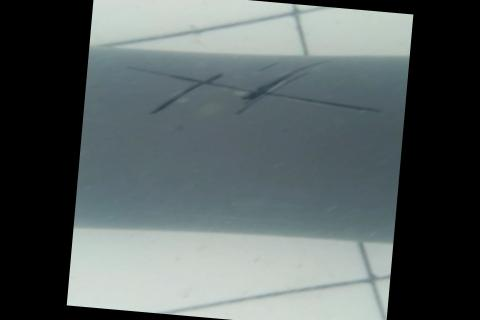keretakan: (111, 41, 392, 135)
